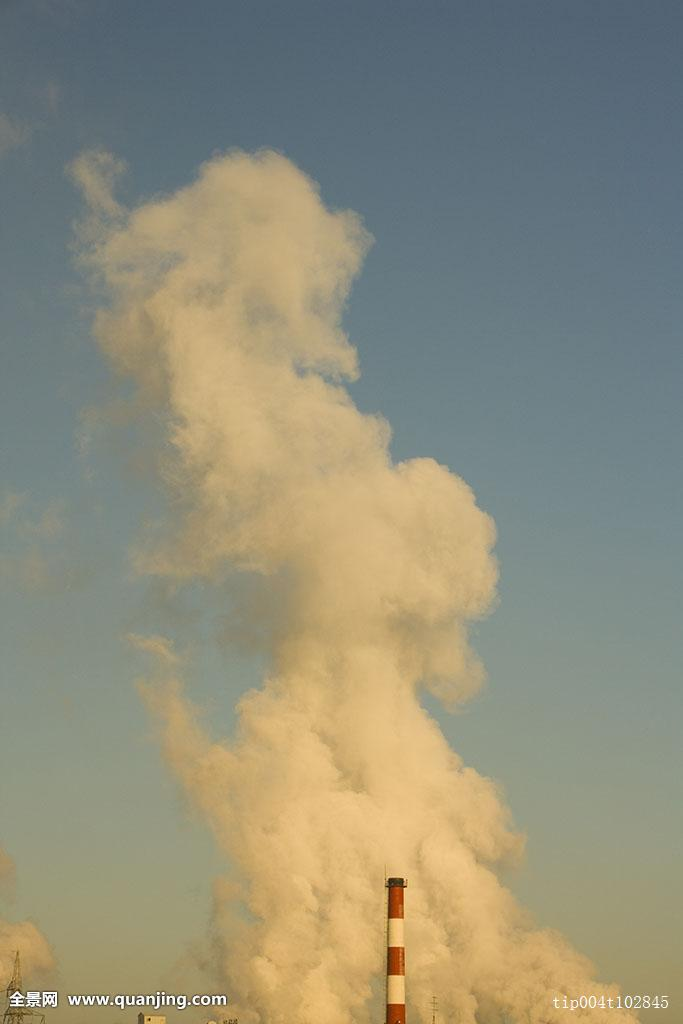dust: (282, 642, 482, 922)
